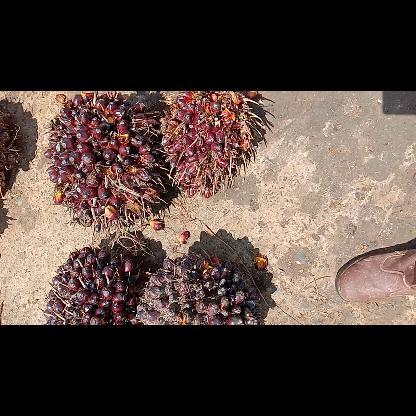Kurang masak: (44, 91, 166, 251), (160, 90, 262, 198), (135, 250, 261, 324), (40, 248, 150, 324)
